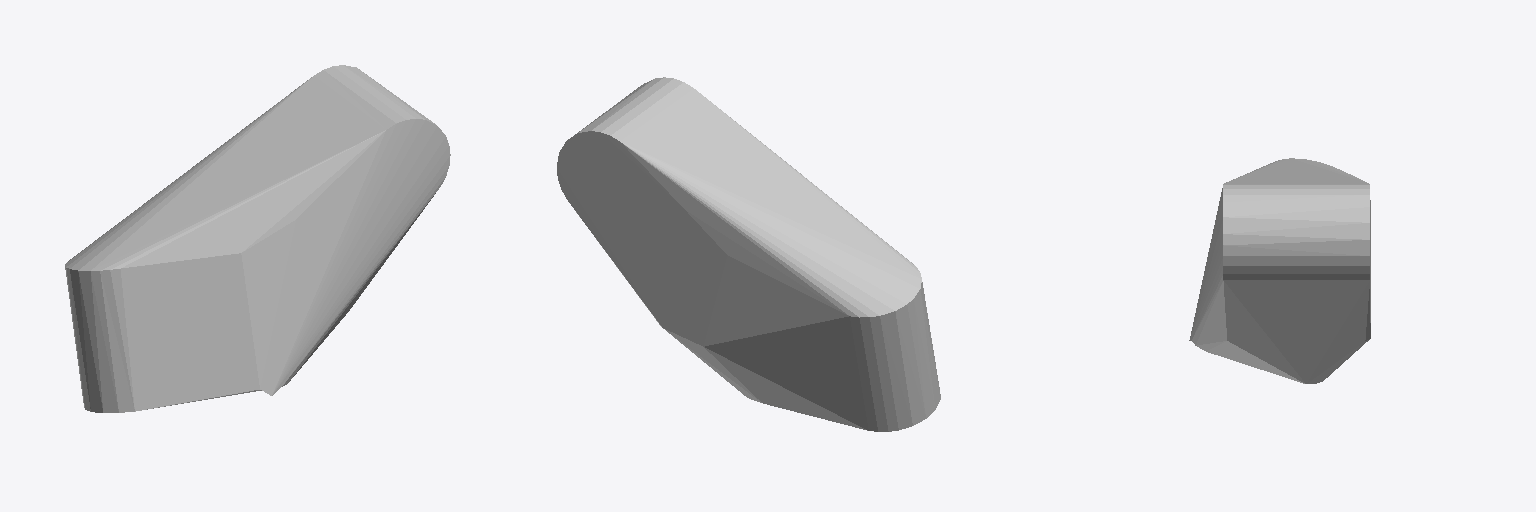
File: thumb-F1-MIR.obj
3 renders of one model, left to right at view 1: azimuth 30°, elevation 25°; view 2: azimuth 150°, elevation 25°; view 3: azimuth 270°, elevation 25°, orthographic.
Parts seen in each view (by area): view 1: off; view 2: off; view 3: off.
Part boxes in pixels (left/top/right/bottom): off: left=65, top=65, right=450, bottom=412; off: left=557, top=77, right=940, bottom=431; off: left=1189, top=158, right=1370, bottom=383.
Size of the model in its own units: 0.0377 by 0.0275 by 0.0178.